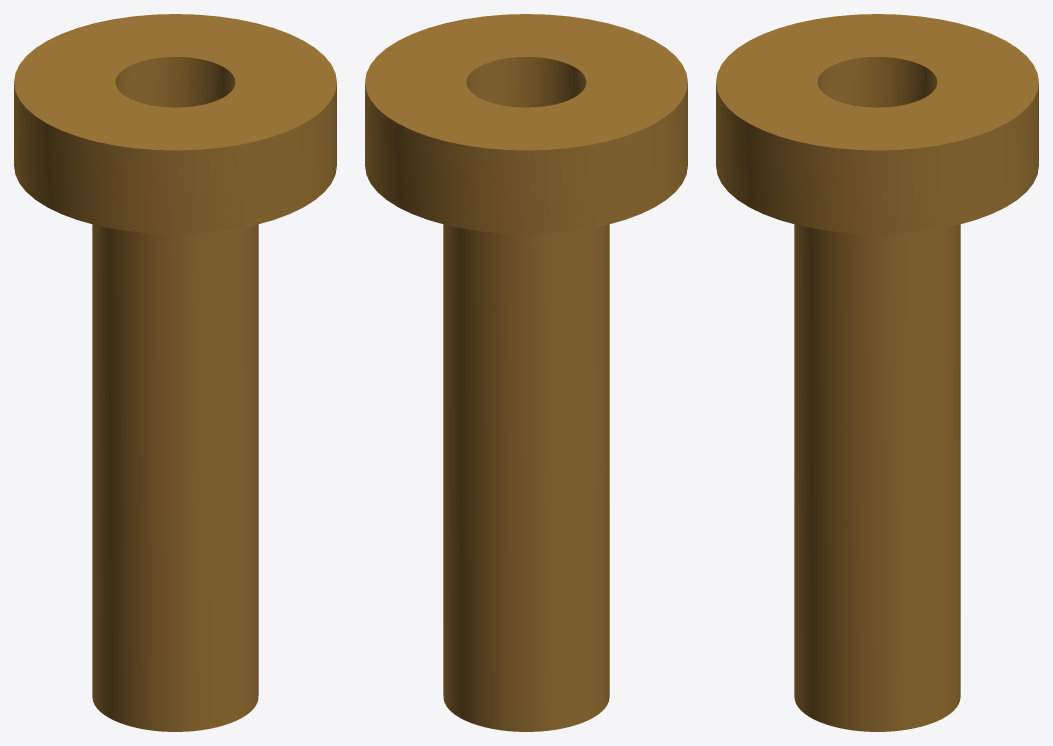
Rendered from metal_032.obj.
3 views of the same model, side by side, from view 1: azimuth 30°, elevation 25°; view 2: azimuth 150°, elevation 25°; view 3: azimuth 270°, elevation 25° (orthographic).
Bounding box in the file's own units: 0.007 × 0.0147 × 0.007.
